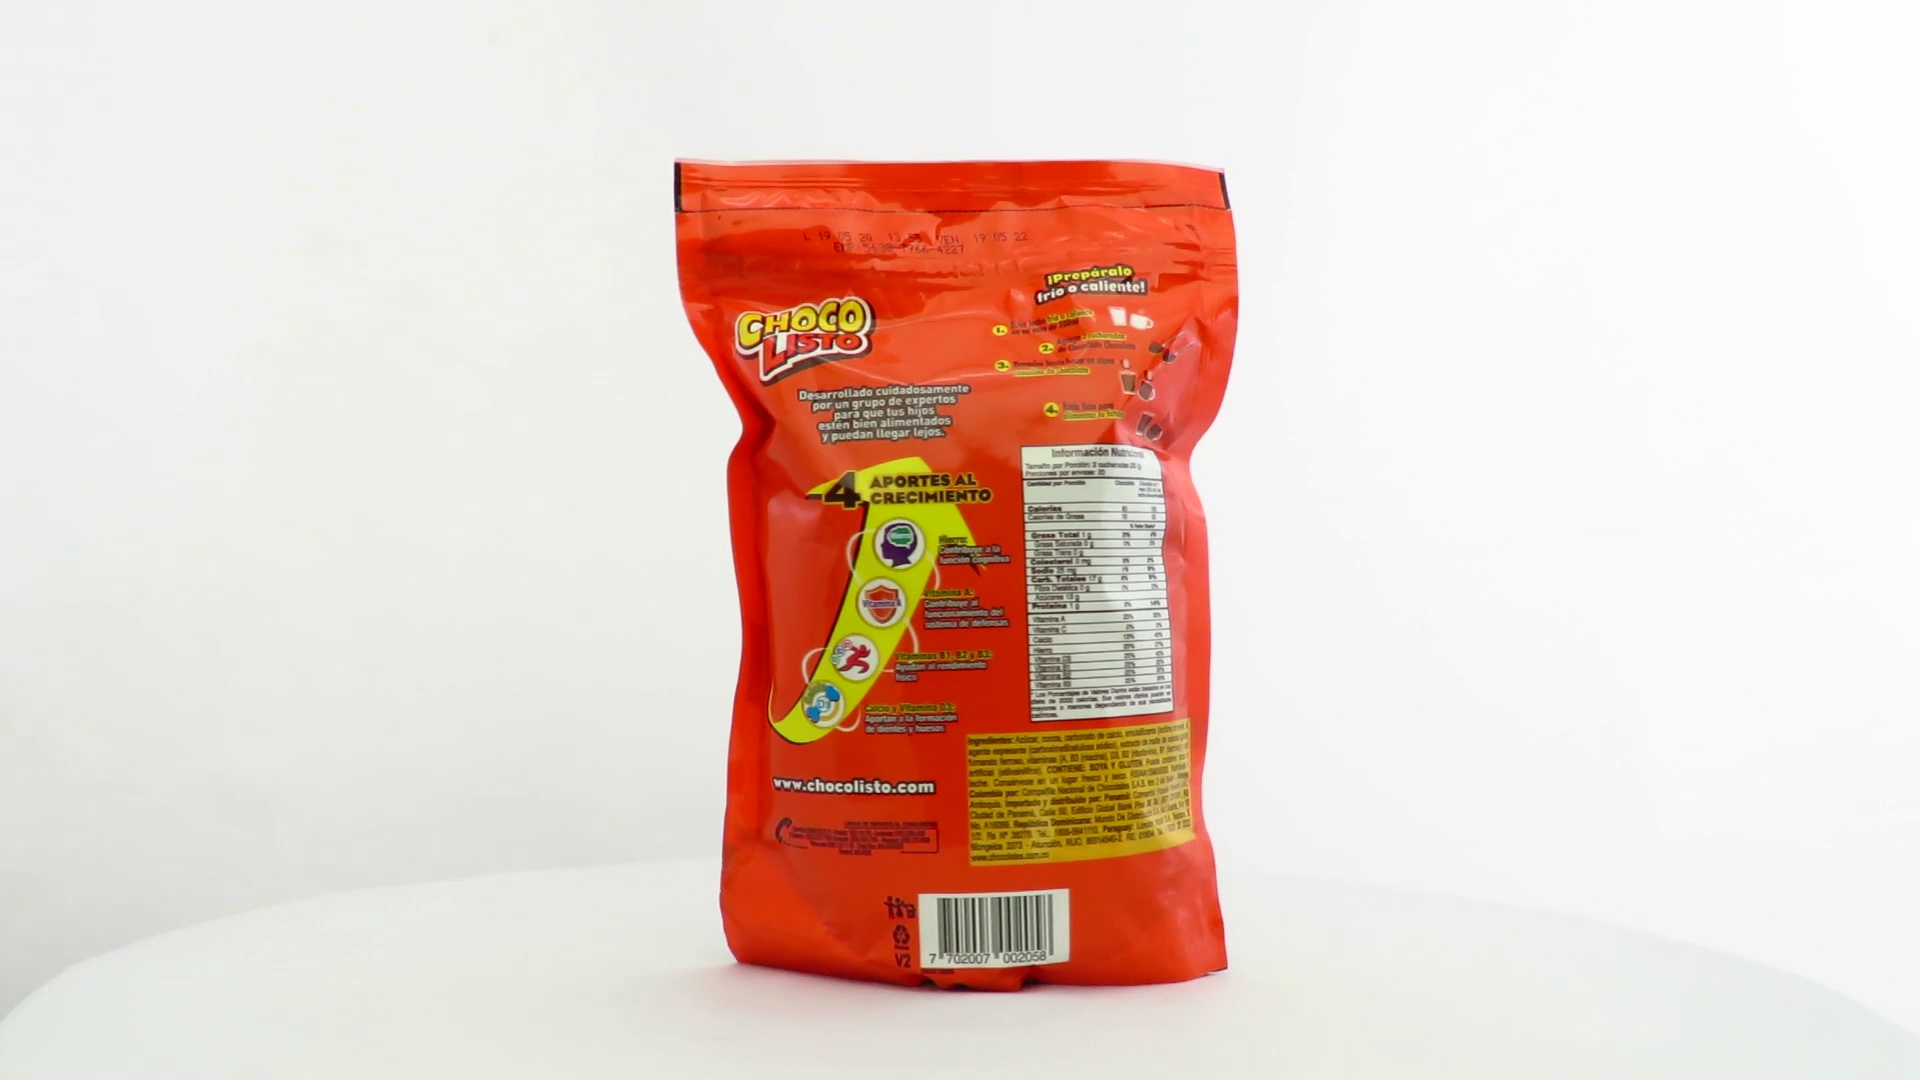COL0170103DYP40000: (669, 152, 1245, 1000)
